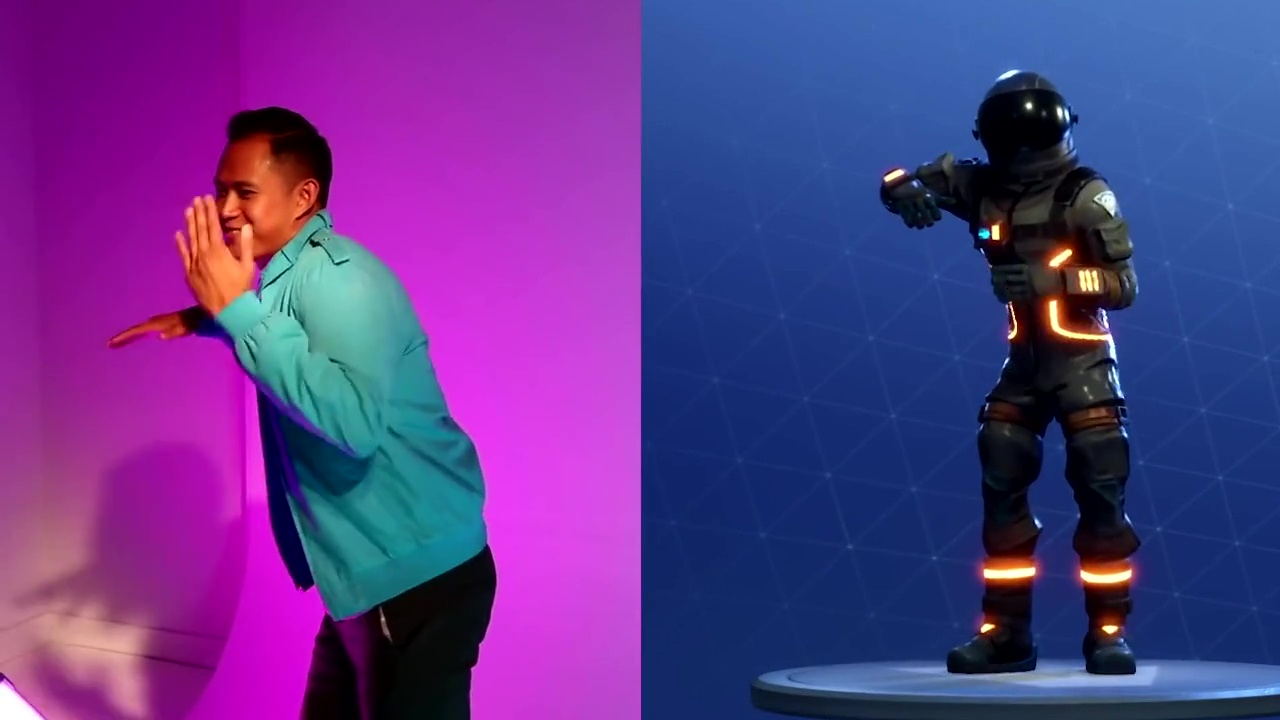LeftElbow: (281, 359, 409, 488)
LeftShoulder: (309, 227, 446, 331)
LeftWrist: (159, 179, 254, 316)
